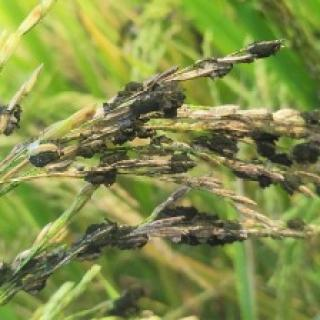Gosong-Palsu: (70, 41, 281, 156), (29, 143, 59, 166)
